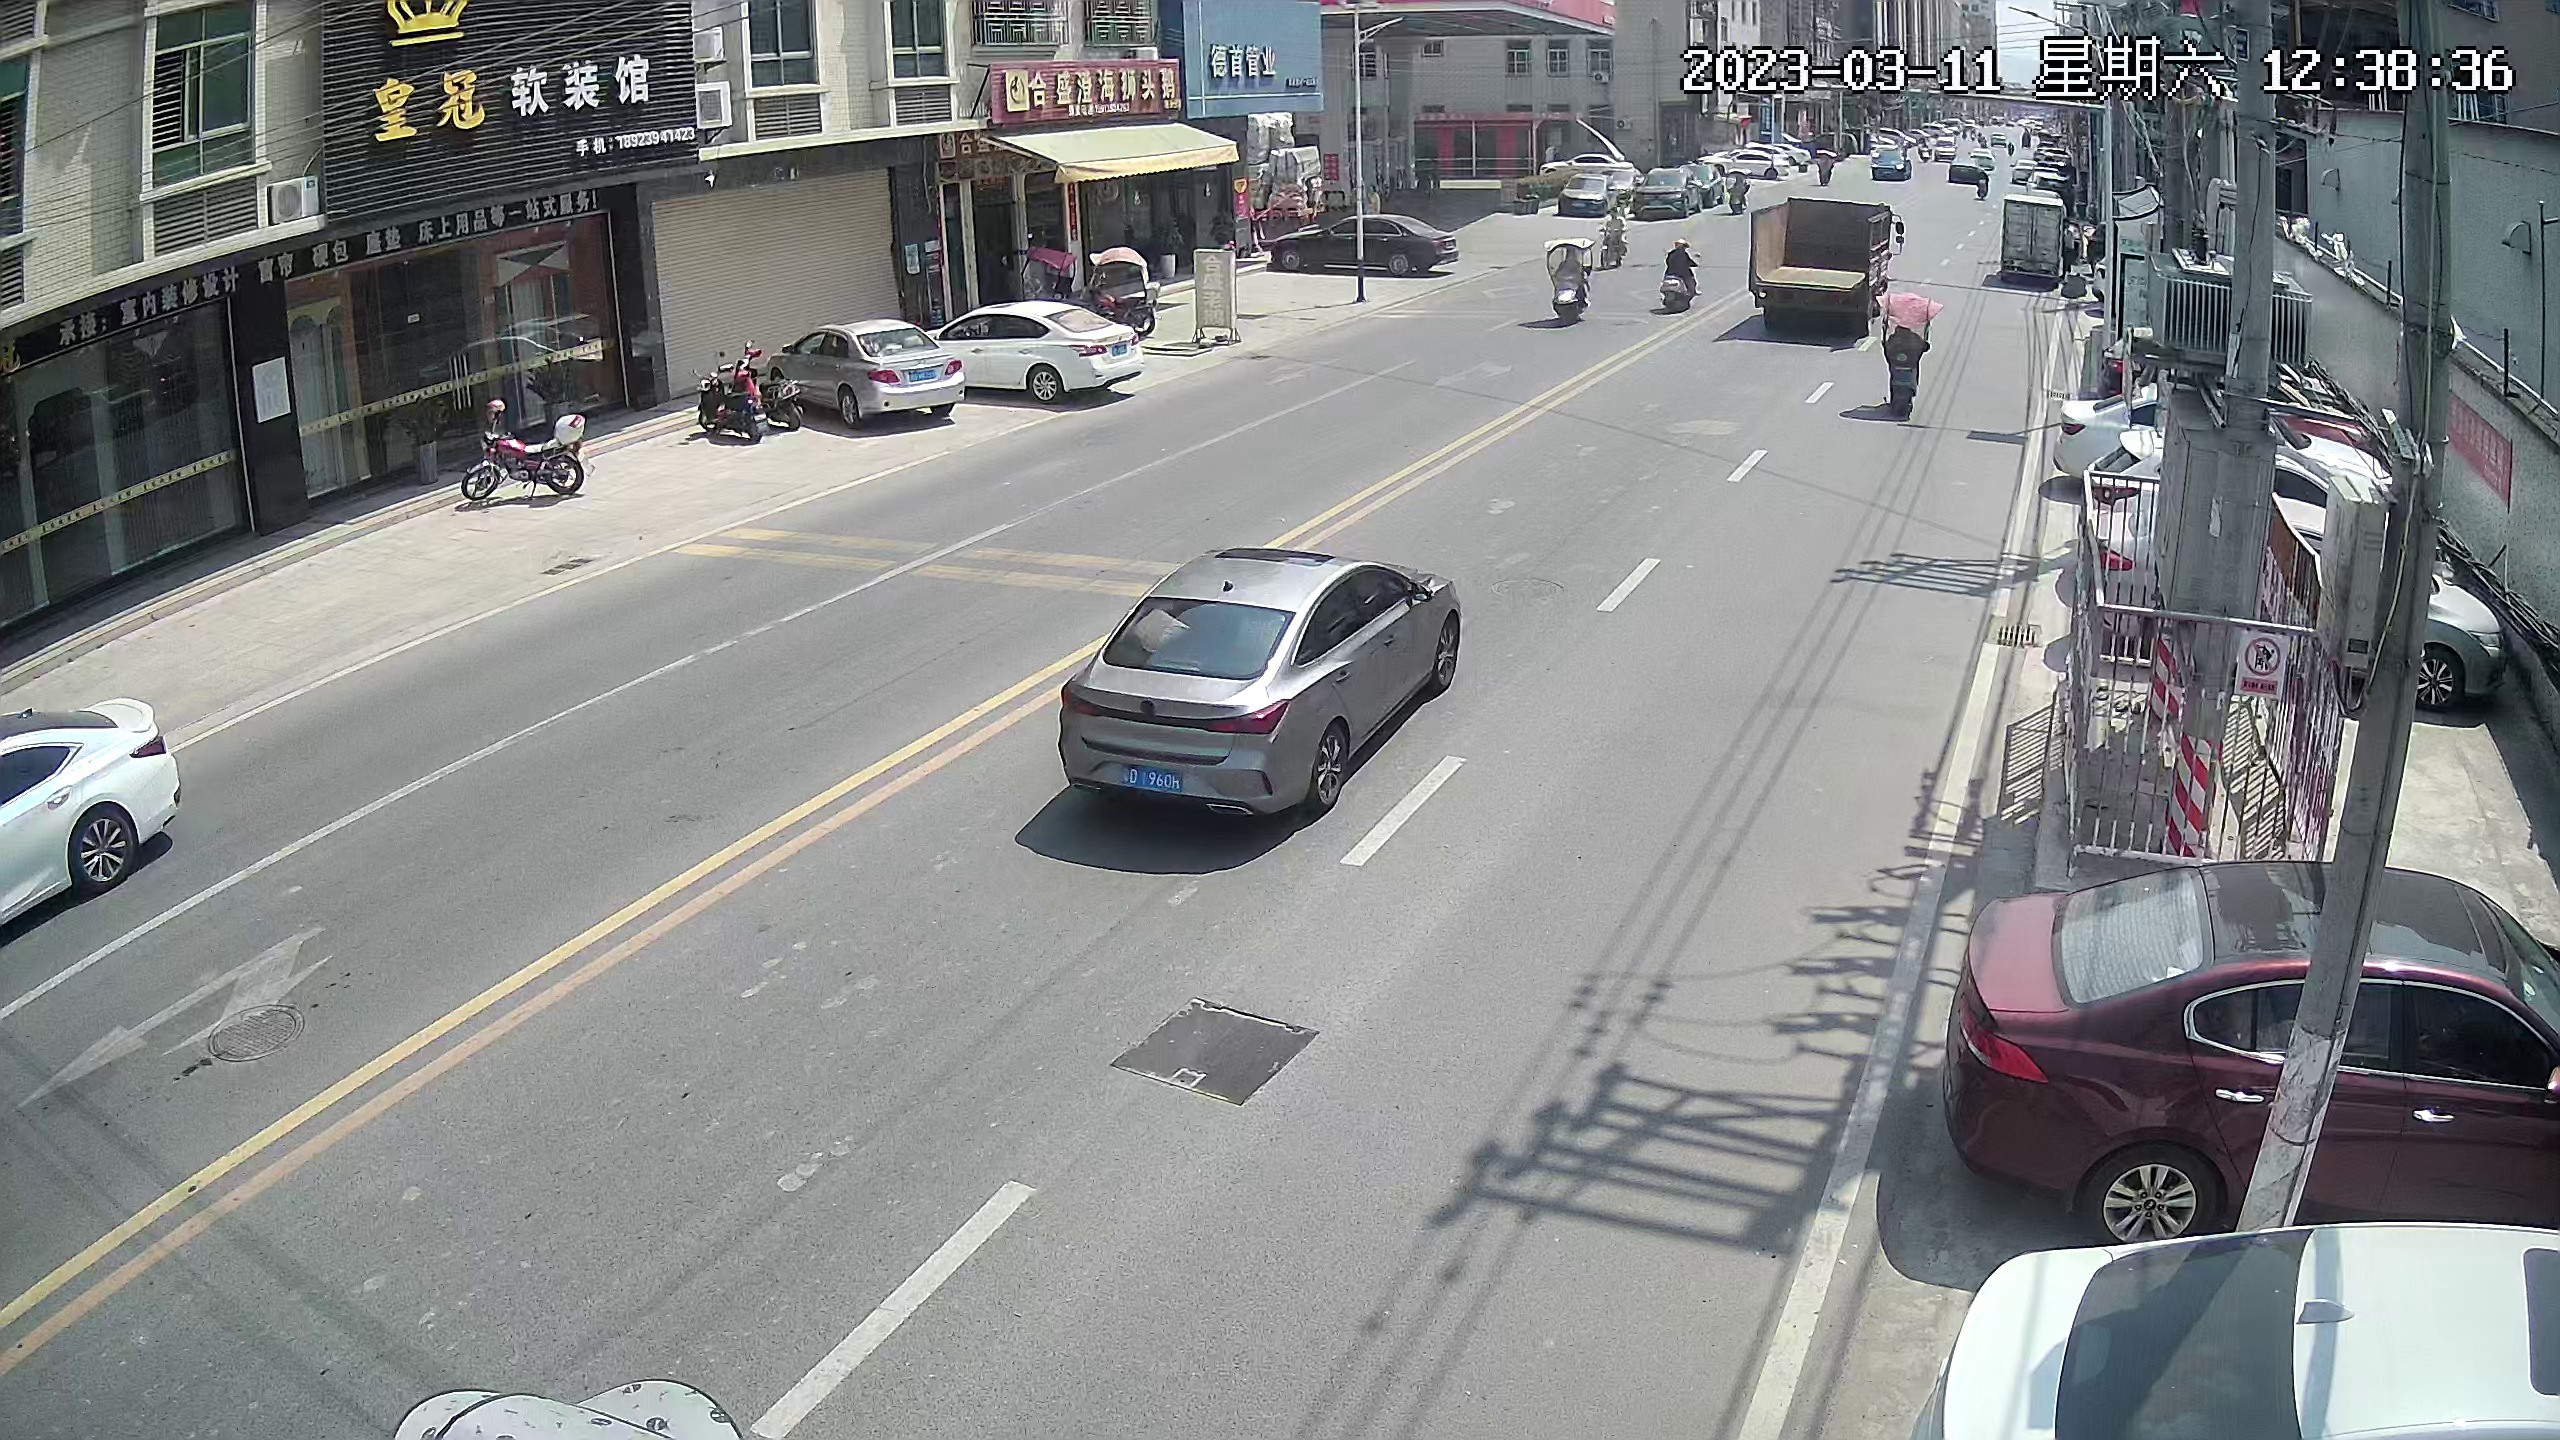motorcycle: (475, 401, 584, 499), (1878, 288, 1938, 440), (1085, 248, 1155, 329), (698, 367, 765, 448), (1544, 232, 1593, 320), (753, 345, 804, 424), (1658, 230, 1698, 316), (1602, 207, 1630, 271)
sedan: (1953, 853, 2560, 1225), (1915, 1238, 2560, 1440), (1057, 543, 1468, 833), (2092, 489, 2493, 698), (4, 680, 167, 923), (2075, 392, 2382, 473), (2098, 433, 2389, 517), (951, 309, 1145, 397), (782, 332, 958, 417), (1271, 213, 1465, 280), (1704, 144, 1783, 185), (1642, 160, 1697, 218), (1554, 169, 1614, 218), (1873, 142, 1909, 179), (1953, 148, 1983, 183), (2025, 162, 2064, 188)
truck: (1742, 199, 1887, 339), (1999, 185, 2071, 285)
